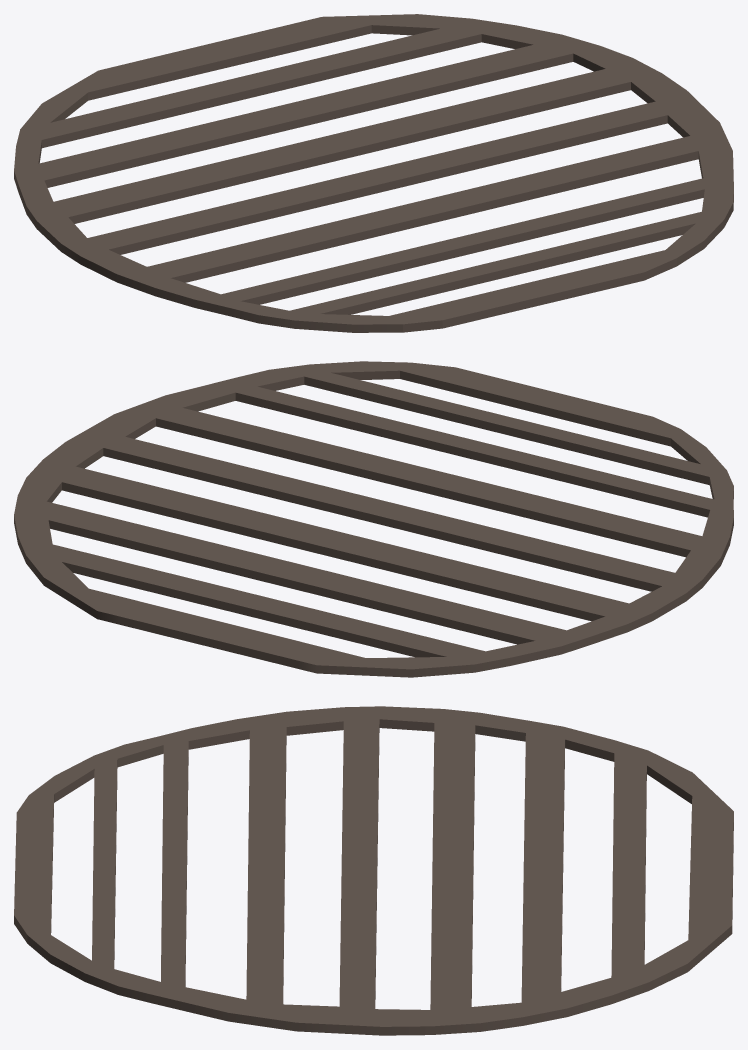
Rendered from Manhole_Text.fbx.
The picture shows the model from 3 angles, top to bottom: view 1: azimuth 30°, elevation 25°; view 2: azimuth 150°, elevation 25°; view 3: azimuth 270°, elevation 25°; orthographic projection. The views are drawn at different scales.
Visible parts, largest first — view 1: Tapis1; view 2: Tapis1; view 3: Tapis1.
Boxes of the visible parts, bbox=[...] form: Tapis1: bbox=[14, 14, 733, 332]; Tapis1: bbox=[14, 361, 733, 677]; Tapis1: bbox=[14, 706, 733, 1035].
Size of the model in its own units: 170 by 2.15 by 161.
1 material, 1 textured.
